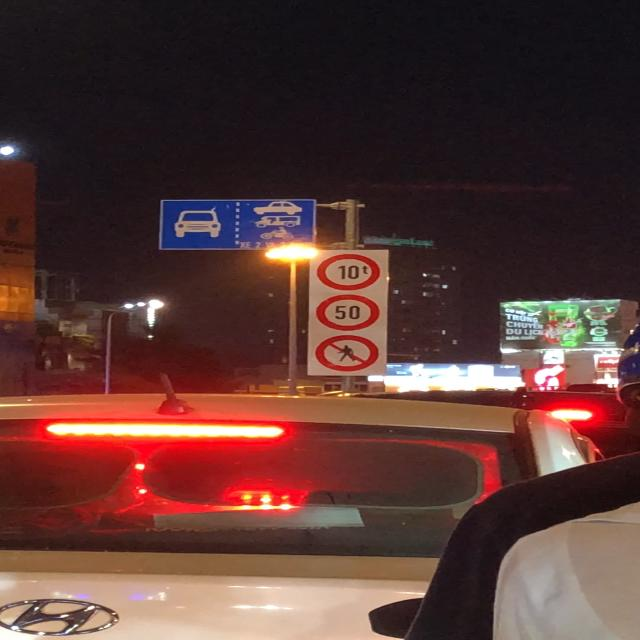Bien bao cam nguoi di bo: (314, 334, 381, 372)
Bien bao toc do toi da cho phep: (316, 293, 382, 331)
